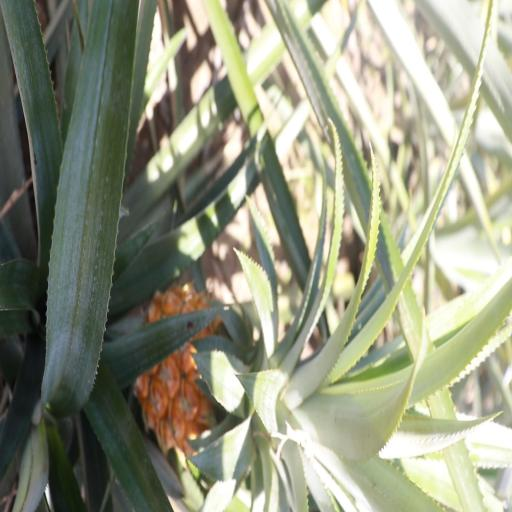Pineapple - v8 v1: (133, 286, 412, 478)
